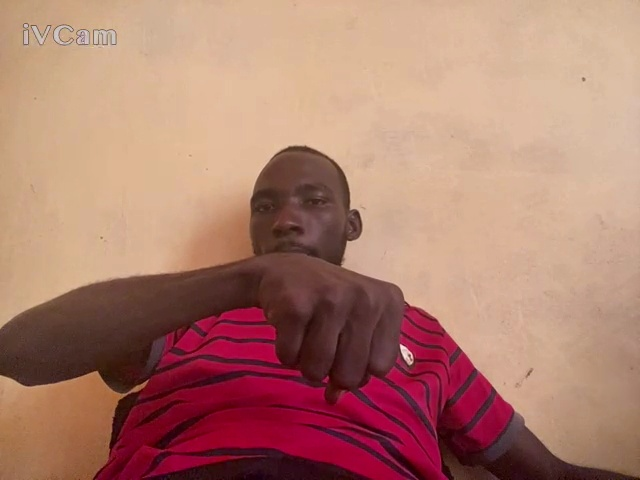oui: (257, 250, 416, 410)
